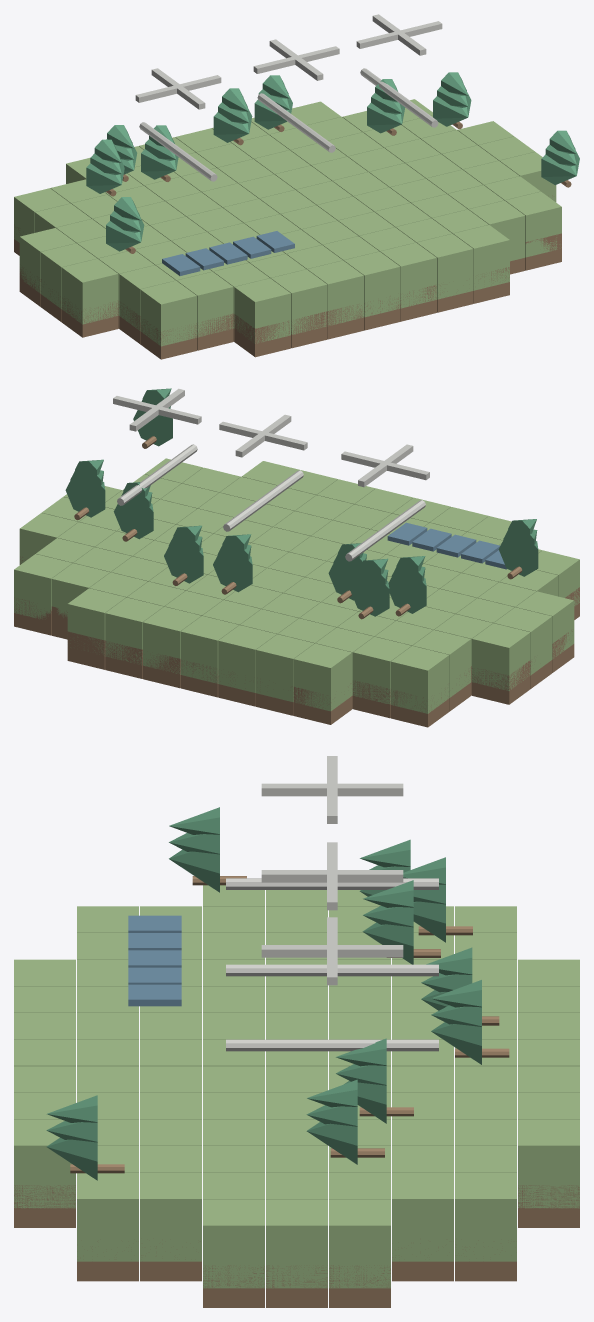
The model's file is climate_guardian_island.glb.
3 views of the same model, one above another, from view 1: azimuth 30°, elevation 25°; view 2: azimuth 150°, elevation 25°; view 3: azimuth 270°, elevation 25° (orthographic). The views are drawn at different scales.
Visible parts, largest first — view 1: climate_005, climate_019, climate_051, climate_141, climate_159, climate_105, climate_123, climate_087, climate_033, climate_069, climate_187, climate_003 (+109 smaller); view 2: climate_035, climate_007, climate_001, climate_089, climate_071, climate_053, climate_021, climate_175, climate_107, climate_125, climate_143, climate_003 (+108 smaller); view 3: climate_175, climate_177, climate_185, climate_189, climate_191, climate_193, climate_143, climate_187, climate_159, climate_234, climate_237, climate_160 (+120 smaller).
Part boxes in pixels (x1,y1,x2,y2): climate_005: (61,258,118,324); climate_019: (140,280,196,346); climate_051: (234,278,290,343); climate_141: (416,233,473,299); climate_159: (453,225,509,290); climate_105: (344,251,400,317); climate_123: (380,242,436,308); climate_087: (307,260,363,325); climate_033: (177,271,233,337); climate_069: (271,269,327,334); climate_187: (505,191,561,257); climate_003: (40,243,96,308); climate_035: (293,643,352,711); climate_007: (391,646,449,713); climate_001: (472,623,530,690); climate_089: (180,616,238,683); climate_071: (218,625,276,692); climate_053: (256,634,314,701); climate_021: (353,636,411,704); climate_175: (14,554,72,619); climate_107: (143,606,201,674); climate_125: (105,597,163,665); climate_143: (67,588,126,655); climate_003: (494,607,552,674); climate_175: (455,1172,516,1261); climate_177: (392,1172,453,1261); climate_185: (140,1172,201,1261); climate_189: (329,1199,390,1288); climate_191: (266,1199,327,1288); climate_193: (203,1199,264,1288); climate_143: (518,1119,579,1208); climate_187: (77,1172,138,1261); climate_159: (14,1119,75,1208); climate_234: (226,964,438,976); climate_237: (226,1039,438,1051); climate_160: (14,1185,75,1227).
Bounding box in the file's own units: 9.22 × 3.46 × 6.38.
